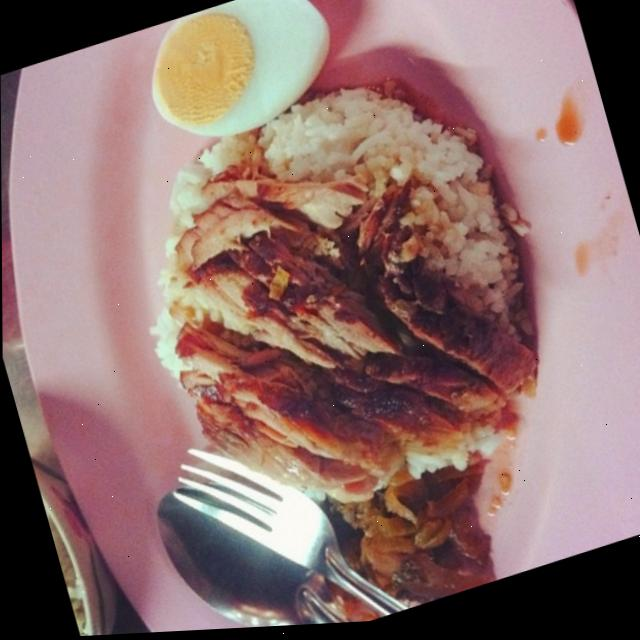猪肉菜式: (60, 52, 587, 601)
